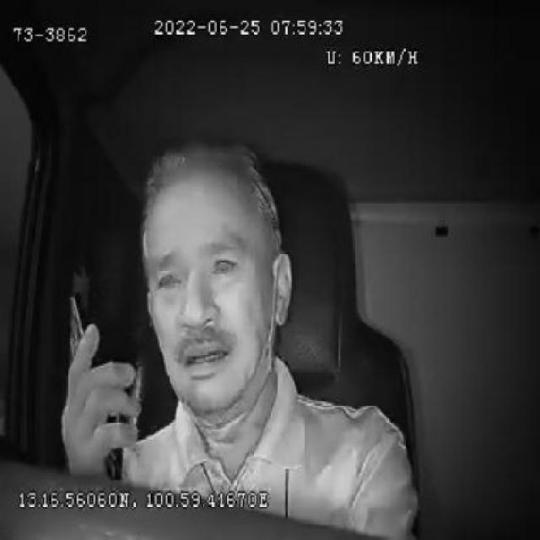phone: (62, 290, 126, 488)
